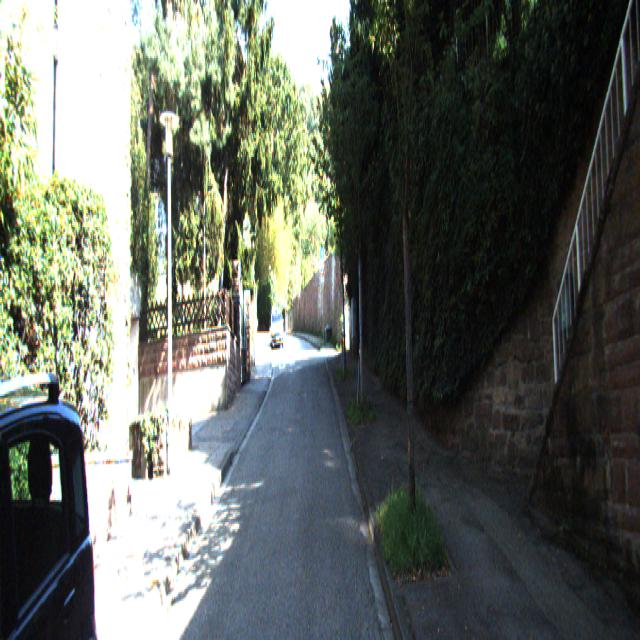Car: (0, 345, 105, 638), (270, 307, 284, 352)
